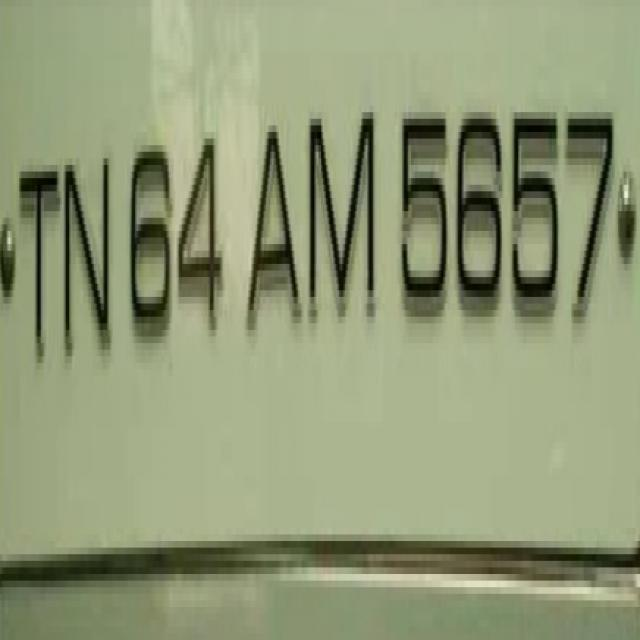4: (174, 112, 228, 386)
5: (394, 75, 452, 326), (508, 78, 560, 347)
6: (455, 84, 504, 326), (127, 110, 172, 372)
7: (565, 81, 615, 349)
A: (244, 78, 302, 381)
M: (308, 84, 380, 358)
N: (61, 118, 114, 390)
T: (11, 124, 61, 377)
